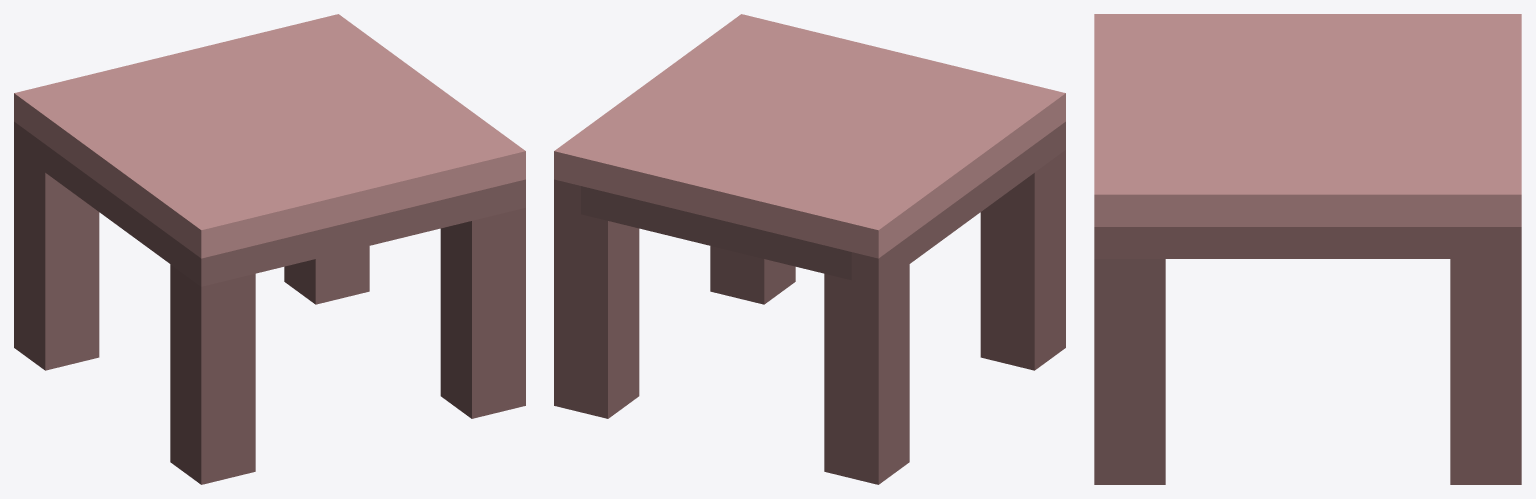
The model's file is mesa_despiece_desgastada_01.glb.
3 renders of one model, left to right at view 1: azimuth 30°, elevation 25°; view 2: azimuth 150°, elevation 25°; view 3: azimuth 270°, elevation 25°, orthographic. The views are drawn at different scales.
Visible parts, largest first — view 1: mesa_despiece_desgastada; view 2: mesa_despiece_desgastada; view 3: mesa_despiece_desgastada.
Part boxes in pixels (box(x1,y1,x2,y2)): mesa_despiece_desgastada: box(14, 14, 525, 484); mesa_despiece_desgastada: box(554, 14, 1065, 484); mesa_despiece_desgastada: box(1094, 14, 1521, 484).
Size of the model in its own units: 1 by 0.75 by 1.
